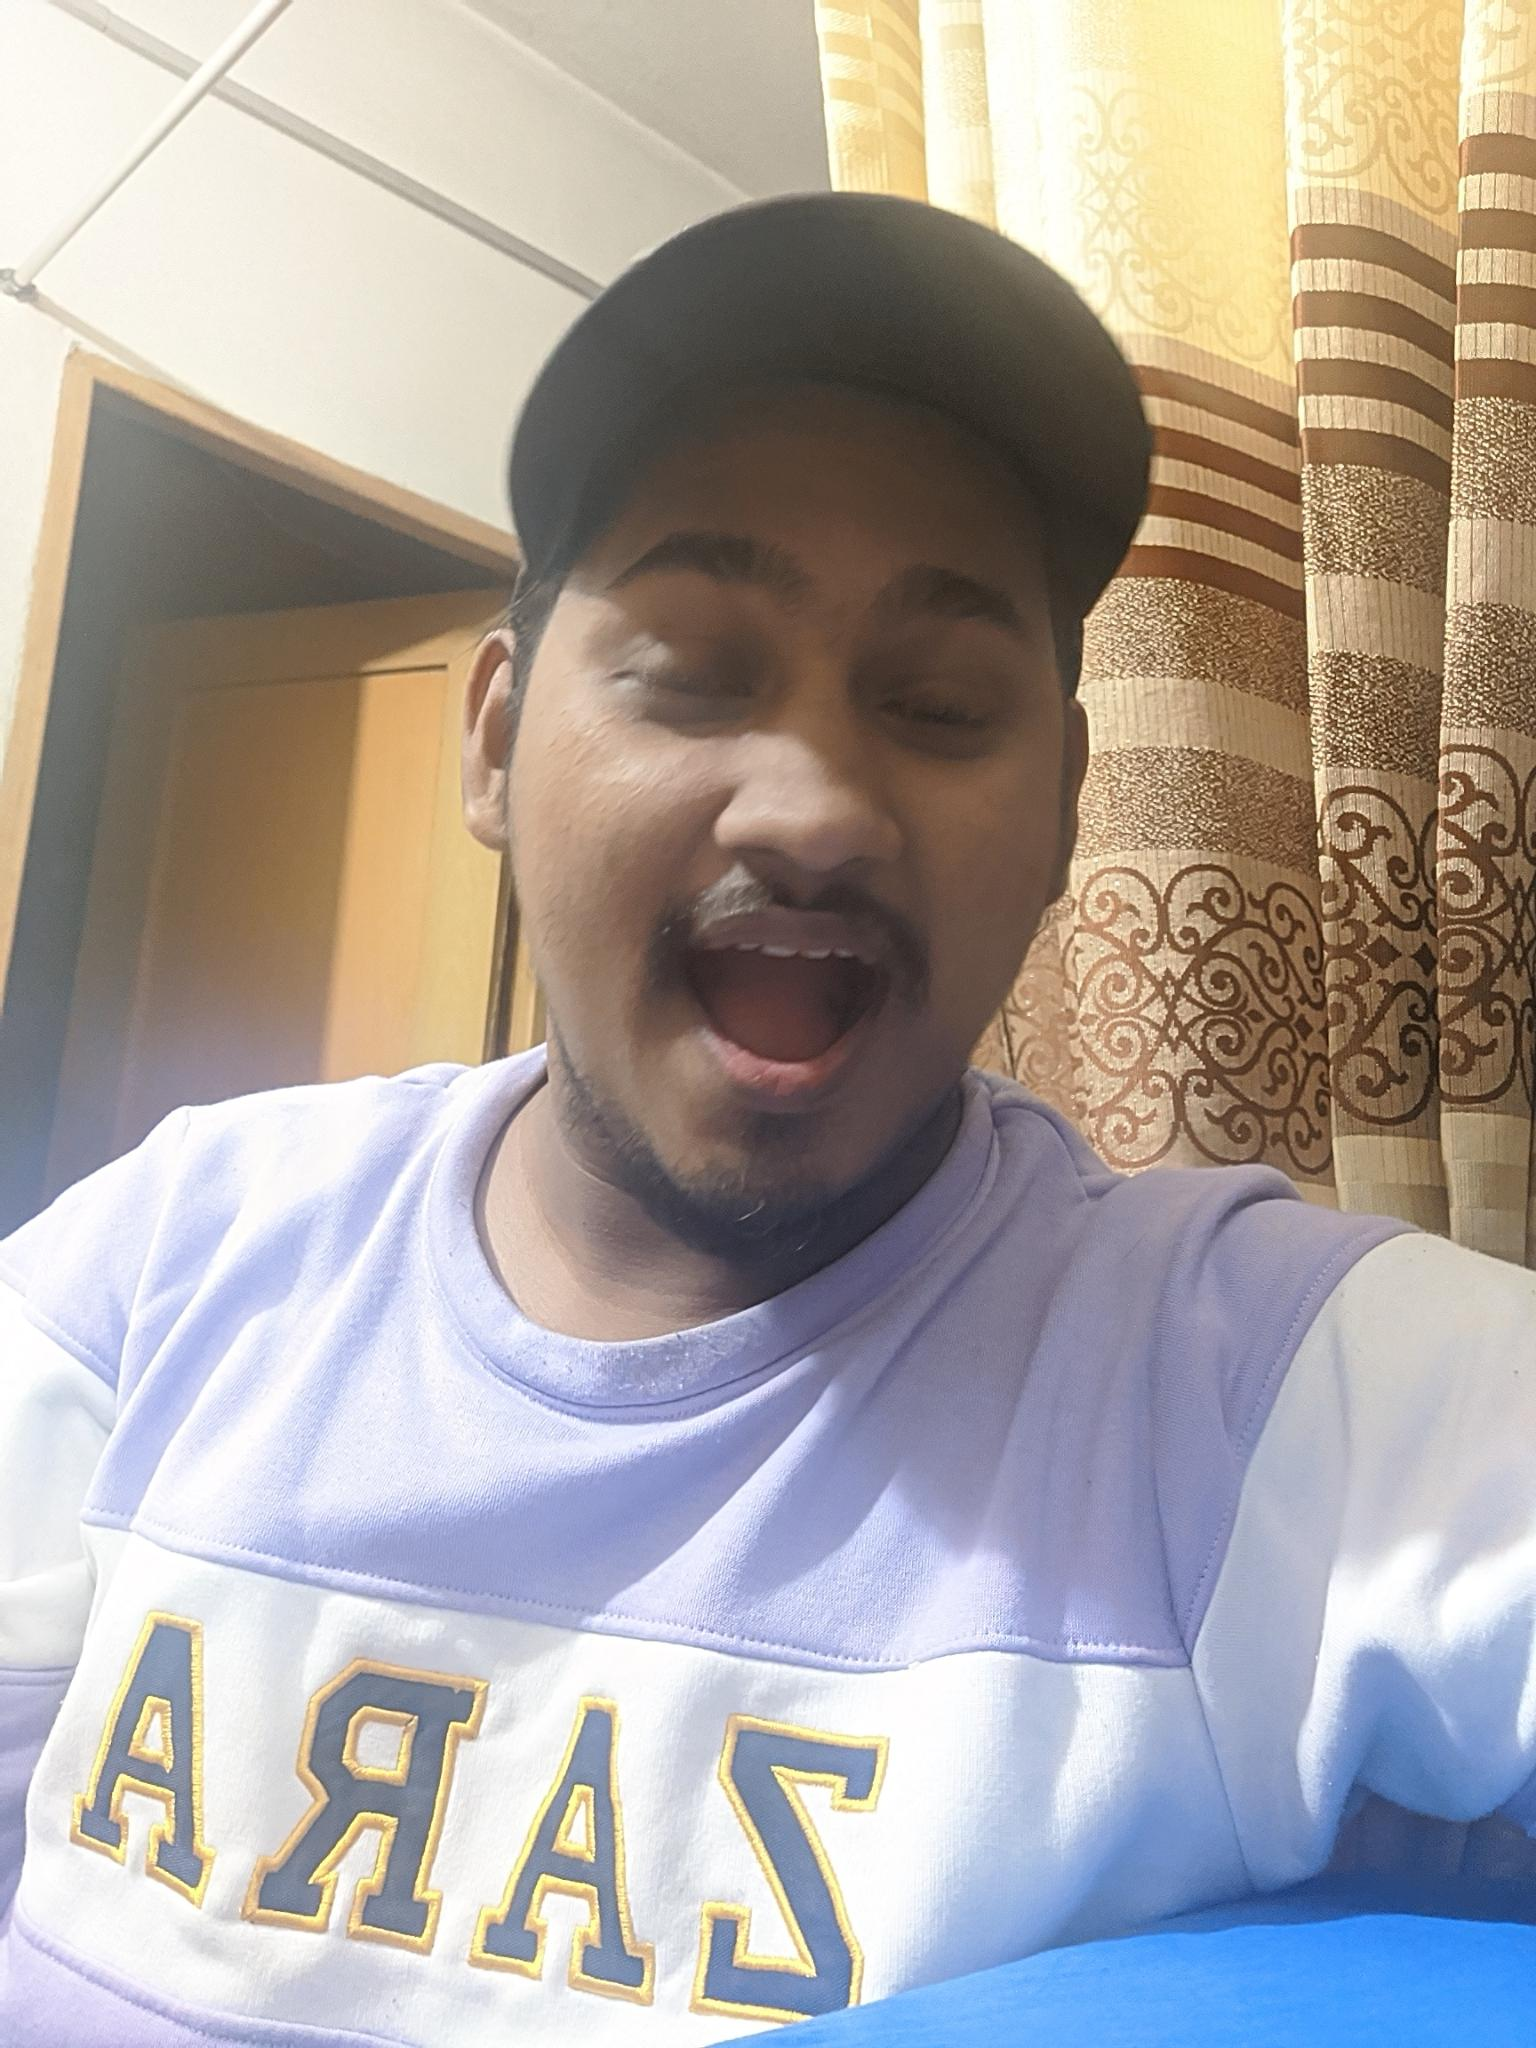Surprise: (552, 440, 1055, 1214)
